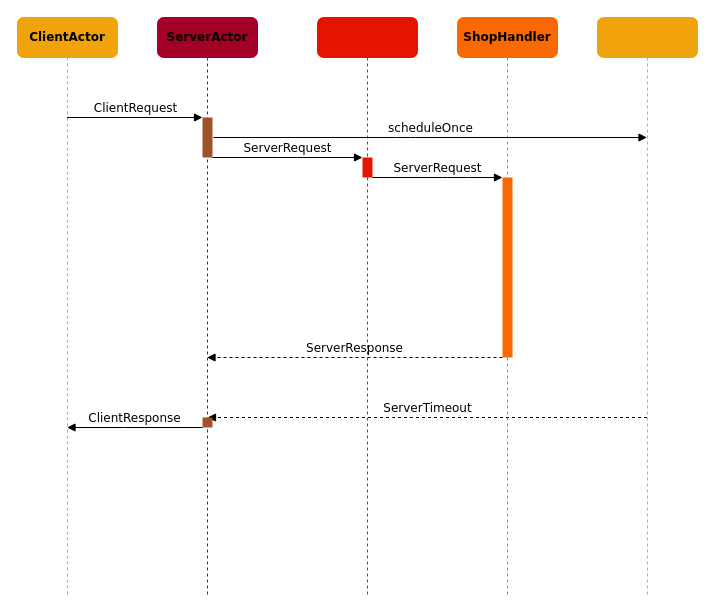
Some shapes in this 715 by 615 pixel diagram are drawn without their labels. Each missing label, with the box of its shape:
Scheduler: (596, 16, 698, 598)
ShopRouter Actor: (316, 16, 418, 598)
